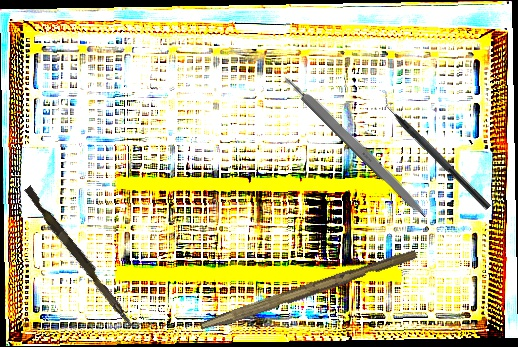Chopper: (374, 89, 499, 211)
Pusher: (20, 185, 141, 330)
Scalpel Handle: (281, 70, 432, 221), (199, 244, 418, 338)
